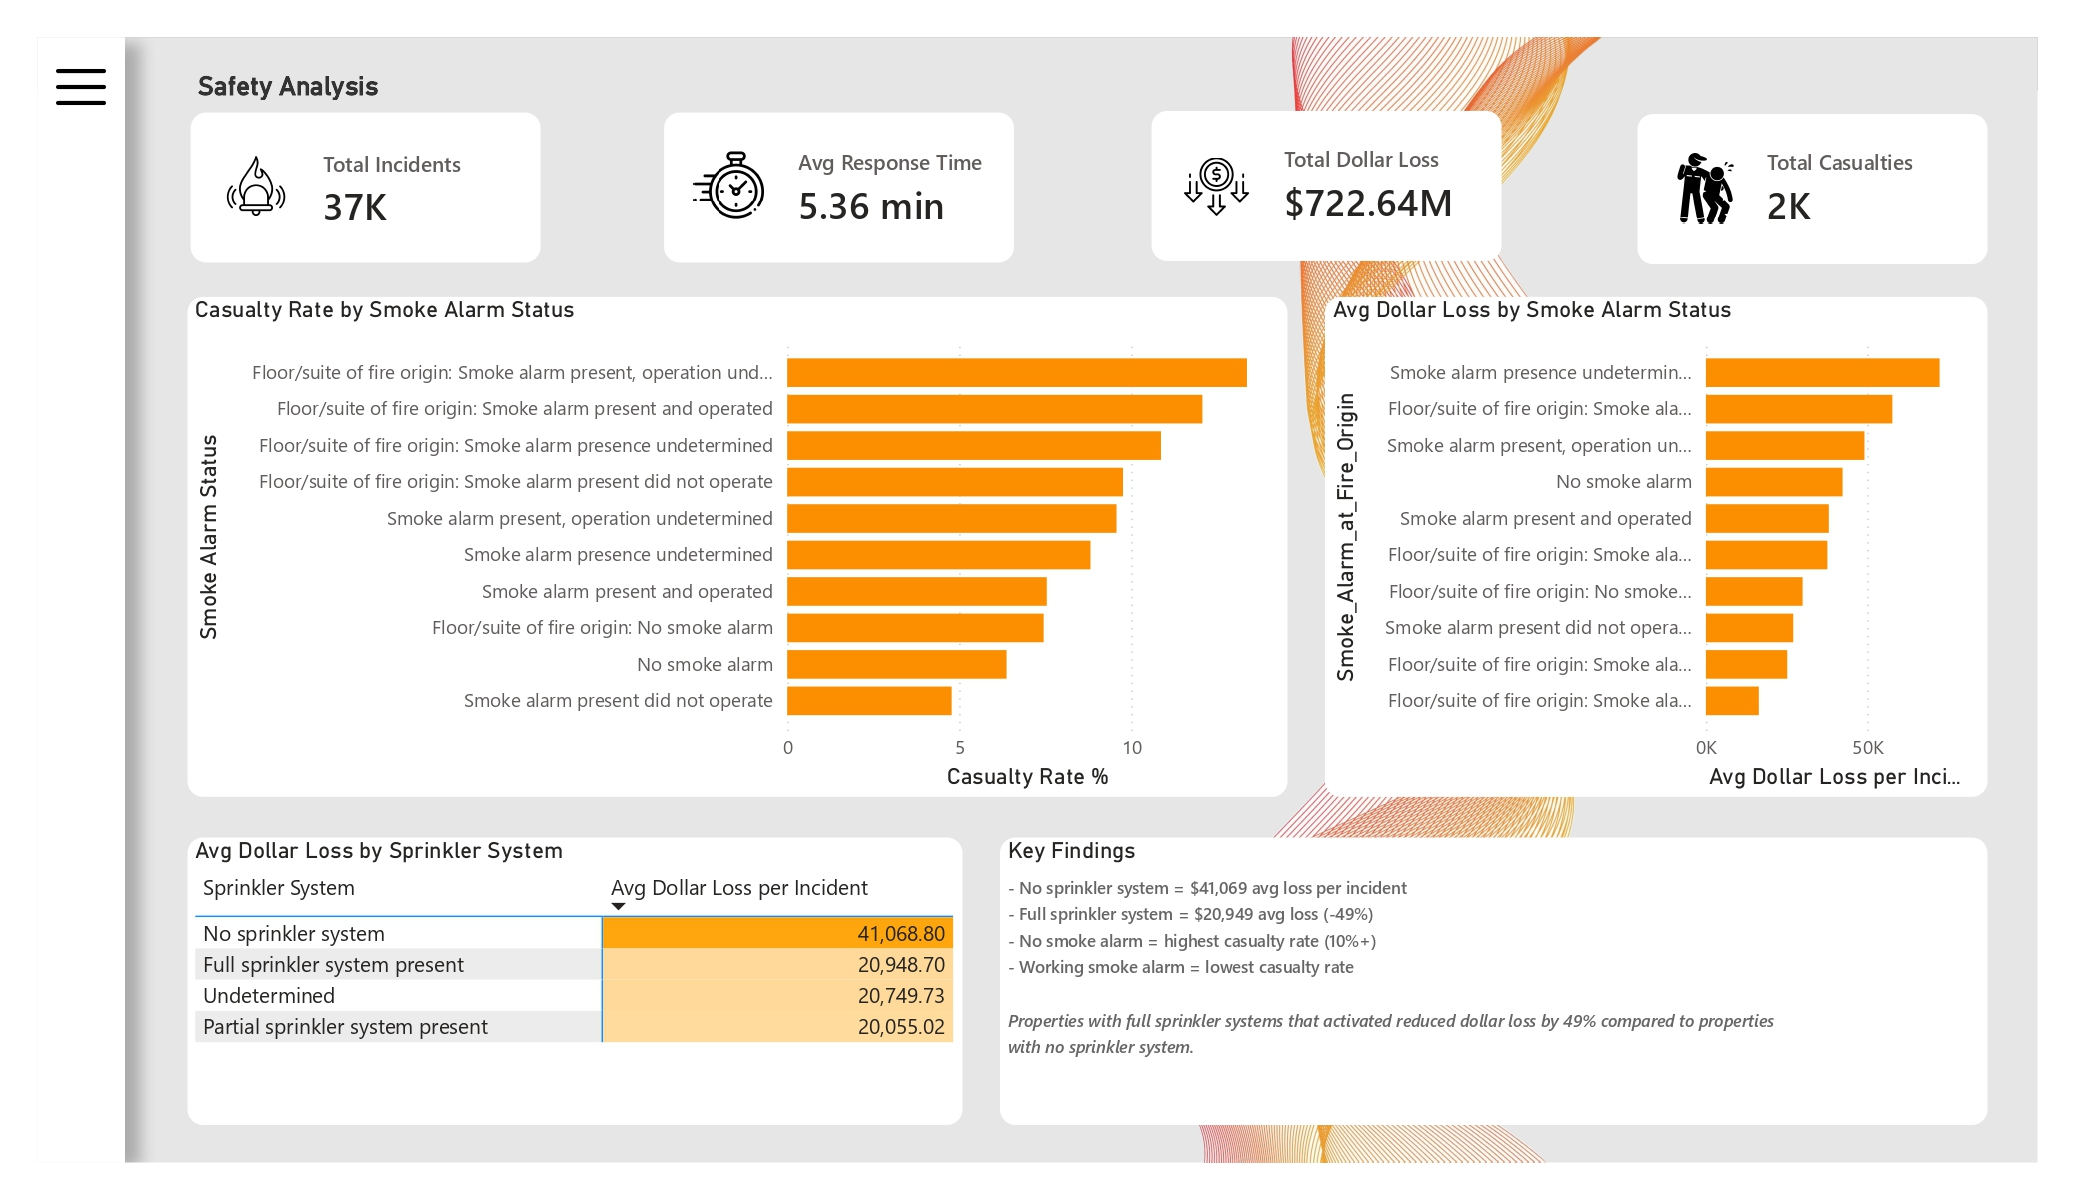

This screenshot's page, from the dashboard's own definition file:
{"tool":"powerbi","page":{"name":"Safety Analysis","canvas":[1280,720],"ordinal":3},"visuals":[{"type":"shape","box":[615.8,511.9,632.3,183.6],"z":0},{"type":"shape","box":[96.1,511.9,496.3,183.6],"z":1000},{"type":"shape","box":[823.7,166.3,424.4,319.6],"z":2000},{"type":"shape","box":[96.1,166.3,704.2,319.6],"z":3000},{"type":"shape","box":[0,0,56,720],"z":4000},{"type":"image","box":[6.8,16.5,42.7,32],"z":5000},{"type":"shape","box":[97.7,48.1,224,96],"z":6000},{"type":"shape","box":[401.2,47.8,224,96],"z":7000},{"type":"shape","box":[1024.1,48.7,224,96],"z":8000},{"type":"cardVisual","fields":{"Data":["_Measures.Total Incidents"]},"box":[153.8,49.4,168.3,95.7],"z":9000},{"type":"shape","box":[713.5,46.8,224,96],"z":10000},{"type":"cardVisual","fields":{"Data":["_Measures.Total Dollar Loss"]},"box":[769.4,46.5,168.3,95.7],"z":11000},{"type":"cardVisual","fields":{"Data":["_Measures.Avg Response Time (min)"]},"box":[458.3,48.2,182.5,95.7],"z":12000},{"type":"cardVisual","fields":{"Data":["_Measures.Total Casualties"]},"box":[1078.3,48.3,170.1,95.7],"z":13000},{"type":"image","box":[115.8,72.4,48.7,45.2],"z":14000},{"type":"image","box":[417.6,72.1,48.7,45.2],"z":15000},{"type":"image","box":[729.6,73,48.7,45.2],"z":16000},{"type":"image","box":[1042.9,74,48.7,45.2],"z":17000},{"type":"clusteredBarChart","title":"Casualty Rate by Smoke Alarm Status","fields":{"Category":["fact_incidents.Smoke_Alarm_at_Fire_Origin"],"Y":["_Measures.Casualty Rate %"]},"box":[96,165.9,704,320],"z":18000},{"type":"clusteredBarChart","title":"Avg Dollar Loss by Smoke Alarm Status","fields":{"Y":["_Measures.Avg Dollar Loss per Incident"],"Category":["fact_incidents.Smoke_Alarm_at_Fire_Origin"]},"box":[824,165.9,424,320],"z":19000},{"type":"pivotTable","title":"Avg Dollar Loss by Sprinkler System","fields":{"Rows":["fact_incidents.Sprinkler_System_Presence"],"Values":["_Measures.Avg Dollar Loss per Incident"]},"box":[96,512,496,184],"z":20000},{"type":"textbox","title":"Key Findings","box":[616,512,632,184],"z":21000},{"type":"textbox","title":"Safety Analysis","box":[97.7,21.4,166.6,22.3],"z":22001}]}

Visuals, with their boxes on the page's 1280x720 design canvas (x1, y1, x2, y2). These are canvas units, not pixel positions in the 2075x1200 screenshot, which may show the page scaled, cropped or inside an application window:
shape: BBox(616, 512, 1248, 696)
shape: BBox(96, 512, 592, 696)
shape: BBox(824, 166, 1248, 486)
shape: BBox(96, 166, 800, 486)
shape: BBox(0, 0, 56, 720)
image: BBox(7, 16, 50, 48)
shape: BBox(98, 48, 322, 144)
shape: BBox(401, 48, 625, 144)
shape: BBox(1024, 49, 1248, 145)
cardVisual - _Measures.Total Incidents: BBox(154, 49, 322, 145)
shape: BBox(714, 47, 938, 143)
cardVisual - _Measures.Total Dollar Loss: BBox(769, 46, 938, 142)
cardVisual - _Measures.Avg Response Time (min): BBox(458, 48, 641, 144)
cardVisual - _Measures.Total Casualties: BBox(1078, 48, 1248, 144)
image: BBox(116, 72, 164, 118)
image: BBox(418, 72, 466, 117)
image: BBox(730, 73, 778, 118)
image: BBox(1043, 74, 1092, 119)
"Casualty Rate by Smoke Alarm Status" clusteredBarChart: BBox(96, 166, 800, 486)
"Avg Dollar Loss by Smoke Alarm Status" clusteredBarChart: BBox(824, 166, 1248, 486)
"Avg Dollar Loss by Sprinkler System" pivotTable: BBox(96, 512, 592, 696)
"Key Findings" textbox: BBox(616, 512, 1248, 696)
"Safety Analysis" textbox: BBox(98, 21, 264, 44)
